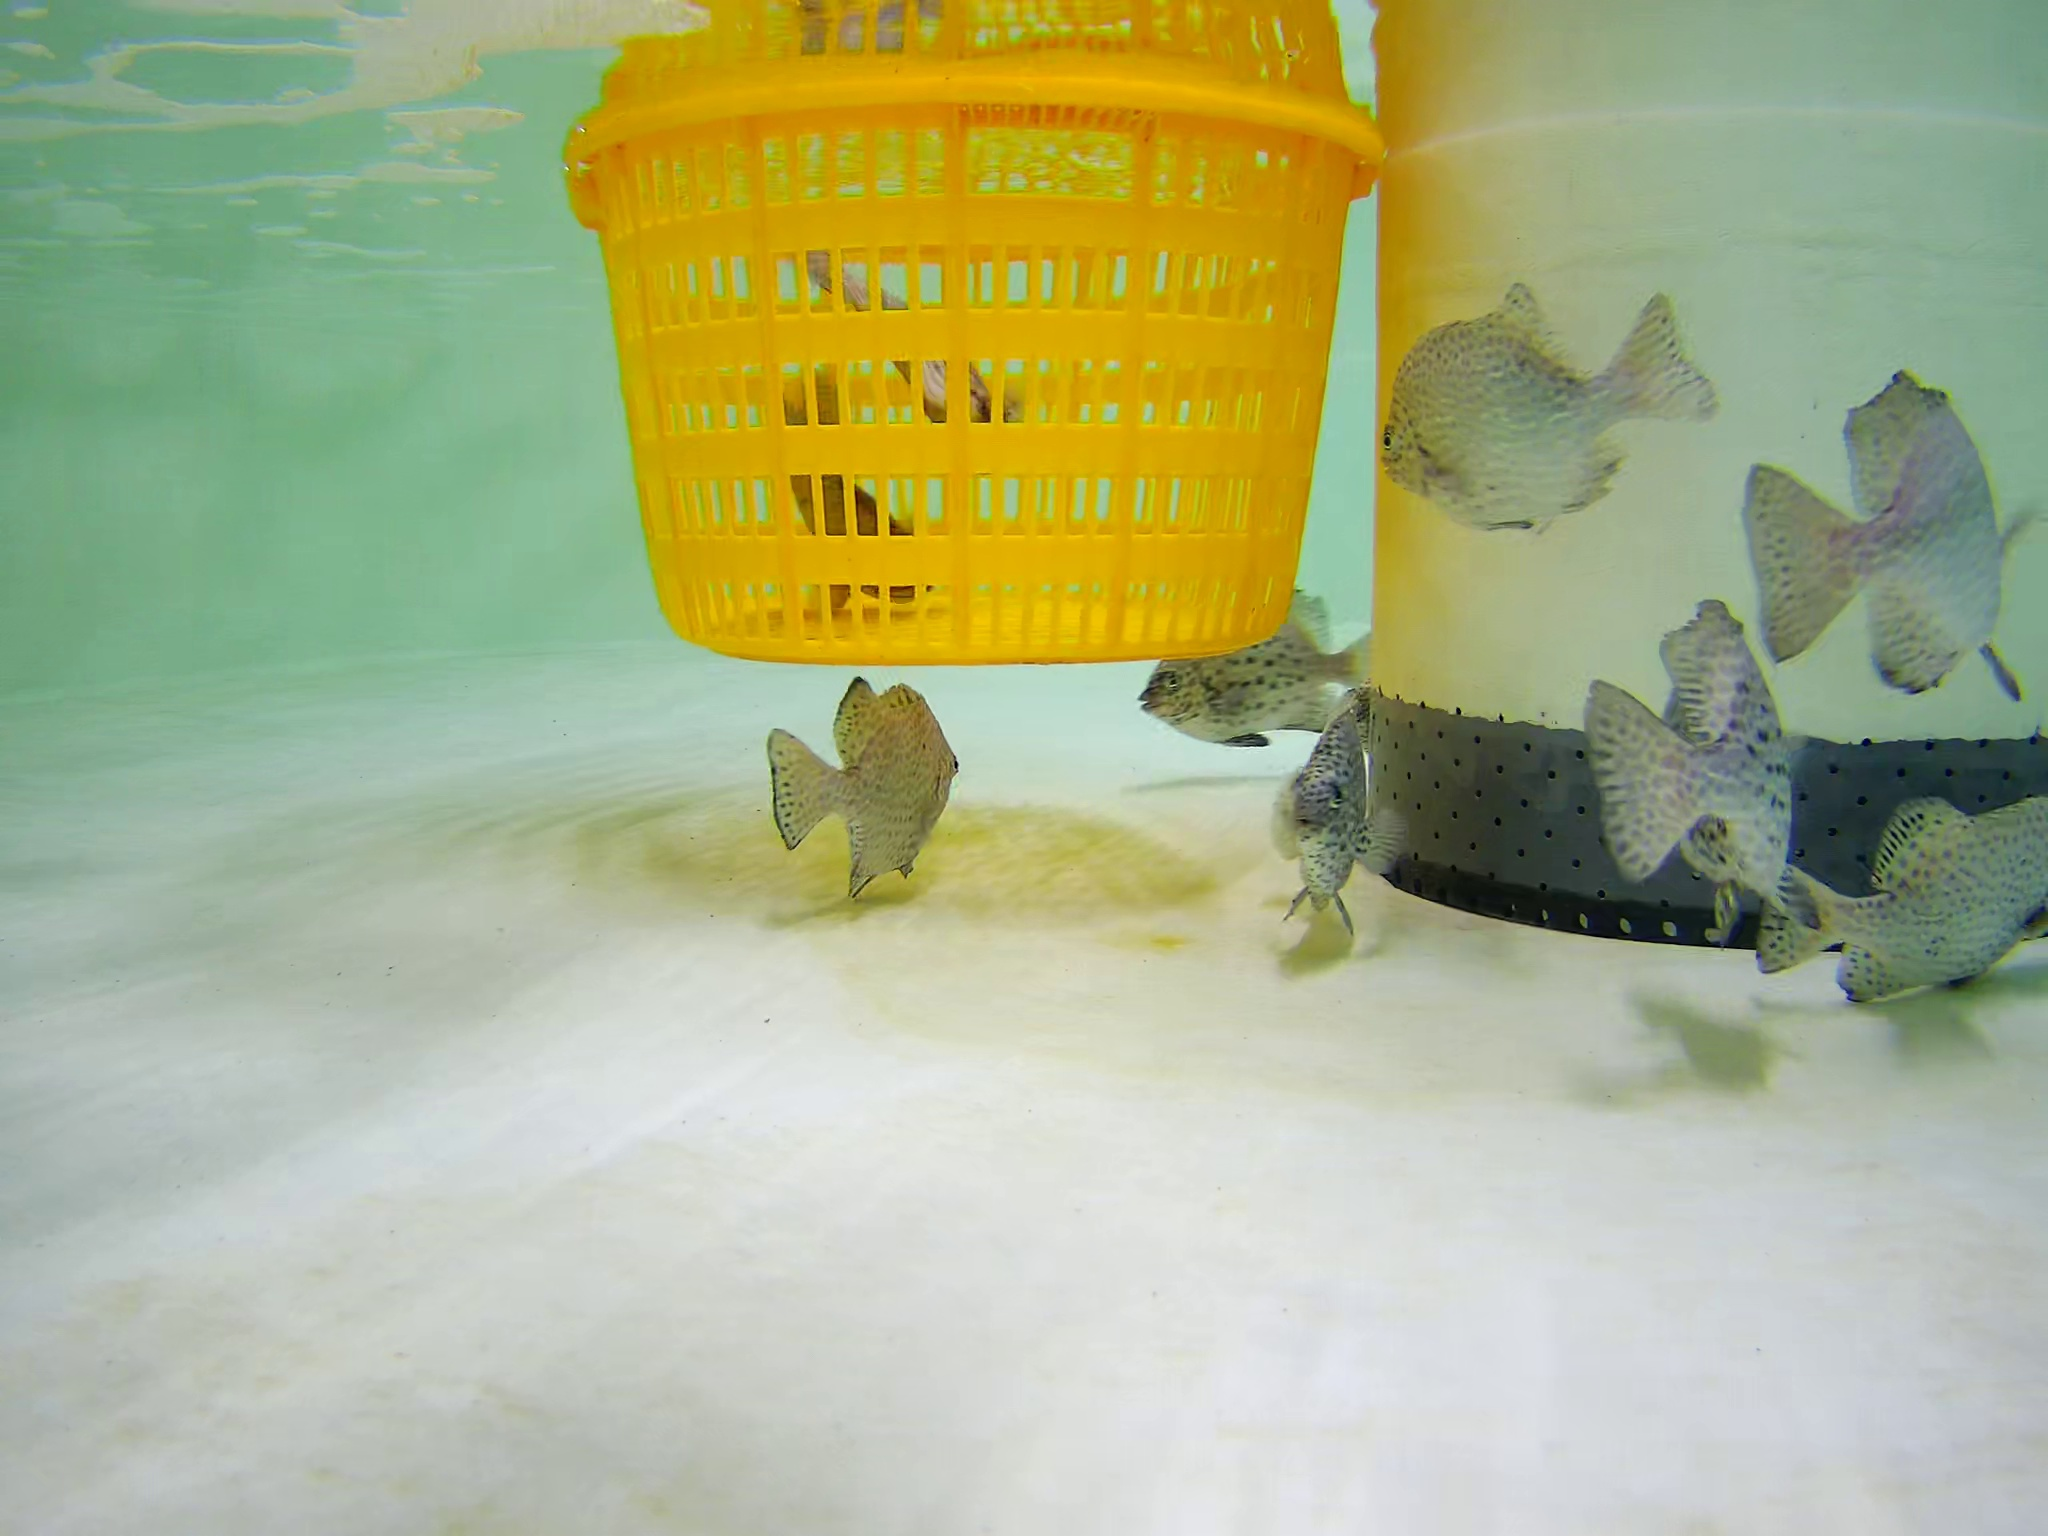fish: (1748, 368, 2030, 708), (1372, 282, 1719, 536), (1748, 770, 2048, 1023), (1579, 608, 1792, 910), (798, 239, 1022, 471), (760, 665, 958, 902), (779, 378, 935, 613), (1137, 582, 1374, 724), (1271, 702, 1393, 947)
